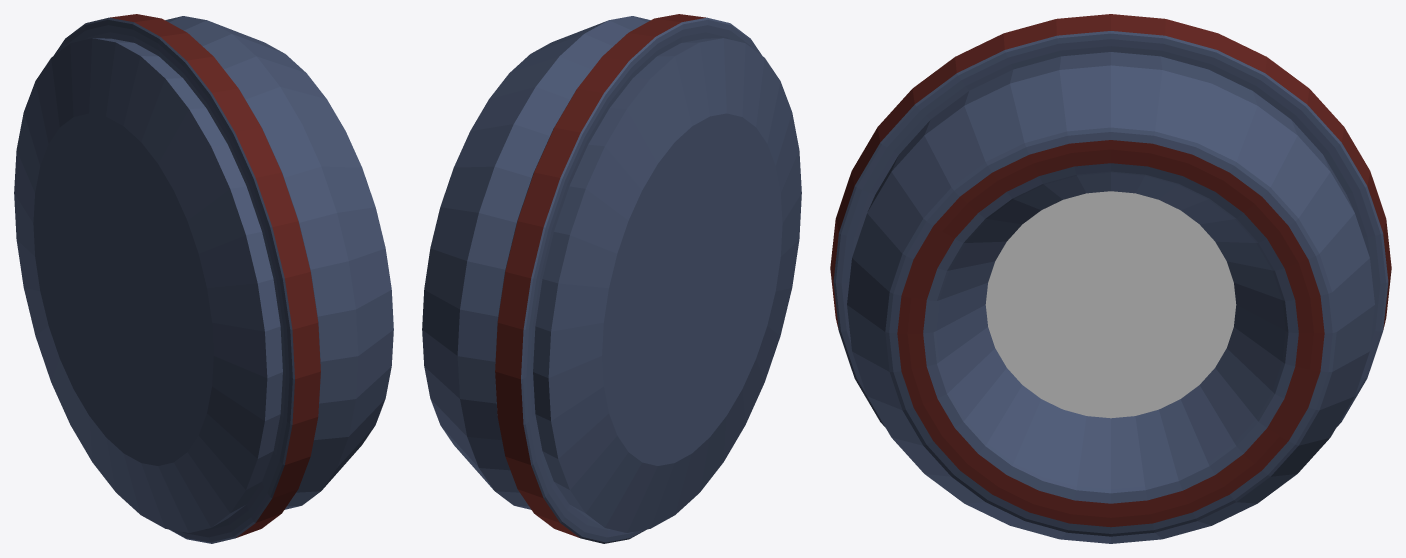
The model's file is Shoulder.fbx.
3 views of the same model, side by side, from view 1: azimuth 30°, elevation 25°; view 2: azimuth 150°, elevation 25°; view 3: azimuth 270°, elevation 25° (orthographic). The views are drawn at different scales.
Visible parts, largest first — view 1: Cylinder.011; view 2: Cylinder.011; view 3: Cylinder.011.
Part boxes in pixels (x1,y1,x2,y2): Cylinder.011: (14, 14, 393, 543); Cylinder.011: (422, 14, 801, 543); Cylinder.011: (830, 14, 1391, 543).
Bounding box in the file's own units: 20.14 × 56.8 × 56.8.
